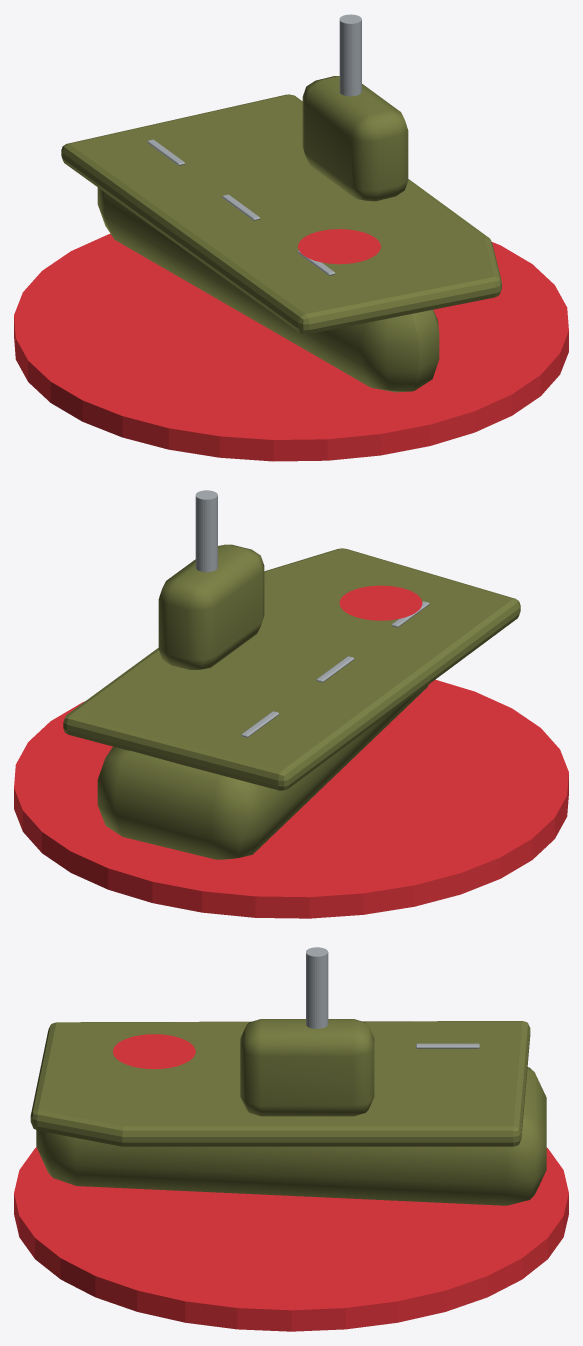
Rendered from japan_navy_lod0.glb.
3 renders of one model, top to bottom at view 1: azimuth 30°, elevation 25°; view 2: azimuth 150°, elevation 25°; view 3: azimuth 270°, elevation 25°, orthographic.
Visible parts, largest first — view 1: body_hull, base_pedestal; view 2: body_hull, base_pedestal; view 3: body_hull, base_pedestal.
Part boxes in pixels (box(x1,y1,x2,y2)): body_hull: box(61, 14, 501, 392); base_pedestal: box(14, 233, 568, 461); body_hull: box(63, 490, 520, 859); base_pedestal: box(14, 679, 568, 918); body_hull: box(30, 947, 546, 1205); base_pedestal: box(14, 1147, 568, 1331).
Size of the model in its own units: 0.78 by 0.4613 by 0.78.
